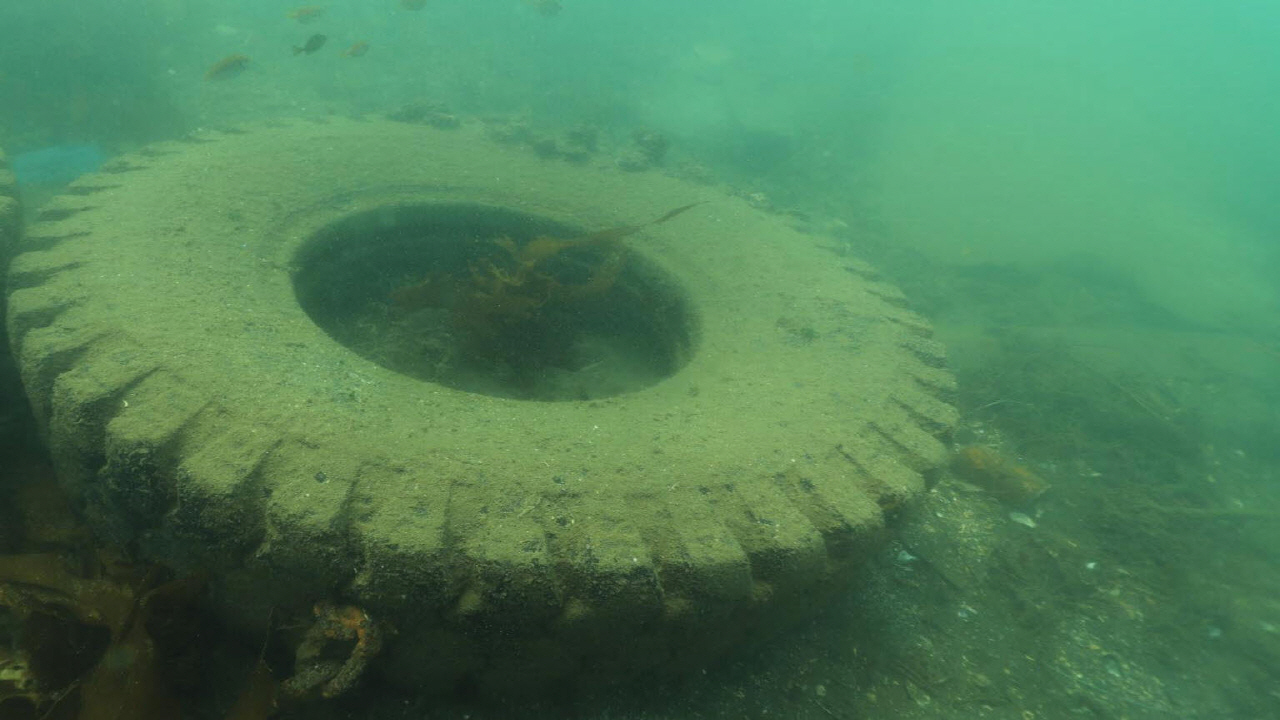tire: (7, 109, 963, 690)
